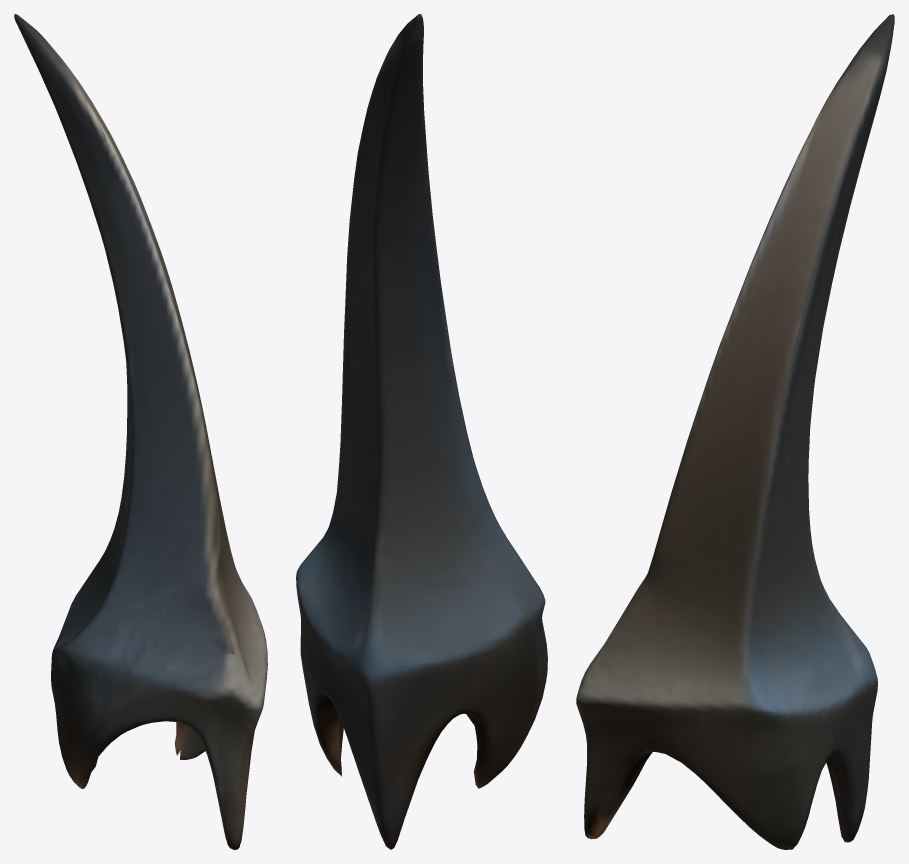
File: perst.gltf
3 views of the same model, side by side, from view 1: azimuth 30°, elevation 25°; view 2: azimuth 150°, elevation 25°; view 3: azimuth 270°, elevation 25° (orthographic). The views are drawn at different scales.
Parts seen in each view (by area): view 1: material; view 2: material; view 3: material.
Part boxes in pixels (x1,y1,x2,y2): material: [14, 14, 267, 849]; material: [296, 14, 547, 849]; material: [576, 14, 894, 849].
Bounding box in the file's own units: 0.1085 × 0.393 × 0.141.
Materials: 1 (1 with a texture image).
